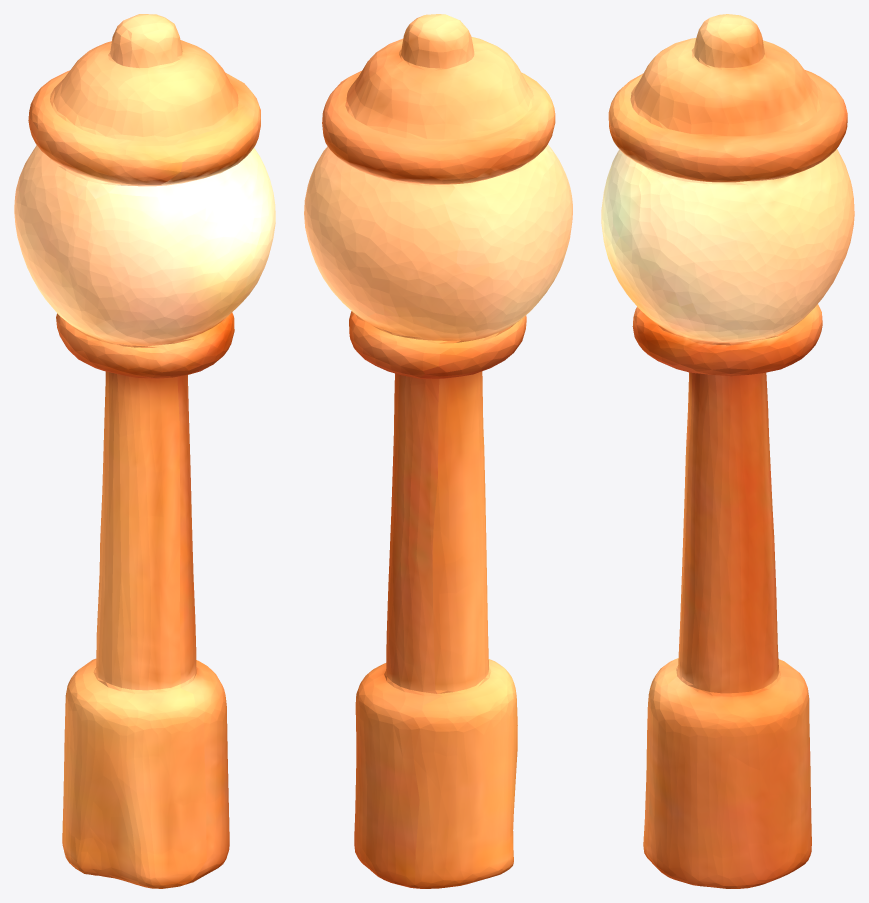
Rendered from street_lamp.glb.
3 views of the same model, side by side, from view 1: azimuth 30°, elevation 25°; view 2: azimuth 150°, elevation 25°; view 3: azimuth 270°, elevation 25° (orthographic).
Visible parts, largest first — view 1: tripo_mesh_cafcc838-6b7c-45ab-82f7-036f70288962; view 2: tripo_mesh_cafcc838-6b7c-45ab-82f7-036f70288962; view 3: tripo_mesh_cafcc838-6b7c-45ab-82f7-036f70288962.
Boxes of the visible parts, x1,y1,x2,y2 form: tripo_mesh_cafcc838-6b7c-45ab-82f7-036f70288962: [14, 14, 275, 888]; tripo_mesh_cafcc838-6b7c-45ab-82f7-036f70288962: [304, 14, 572, 888]; tripo_mesh_cafcc838-6b7c-45ab-82f7-036f70288962: [601, 14, 854, 888].
Bounding box in the file's own units: 0.2782 × 1 × 0.2746.
Materials: 1 (1 with a texture image).
